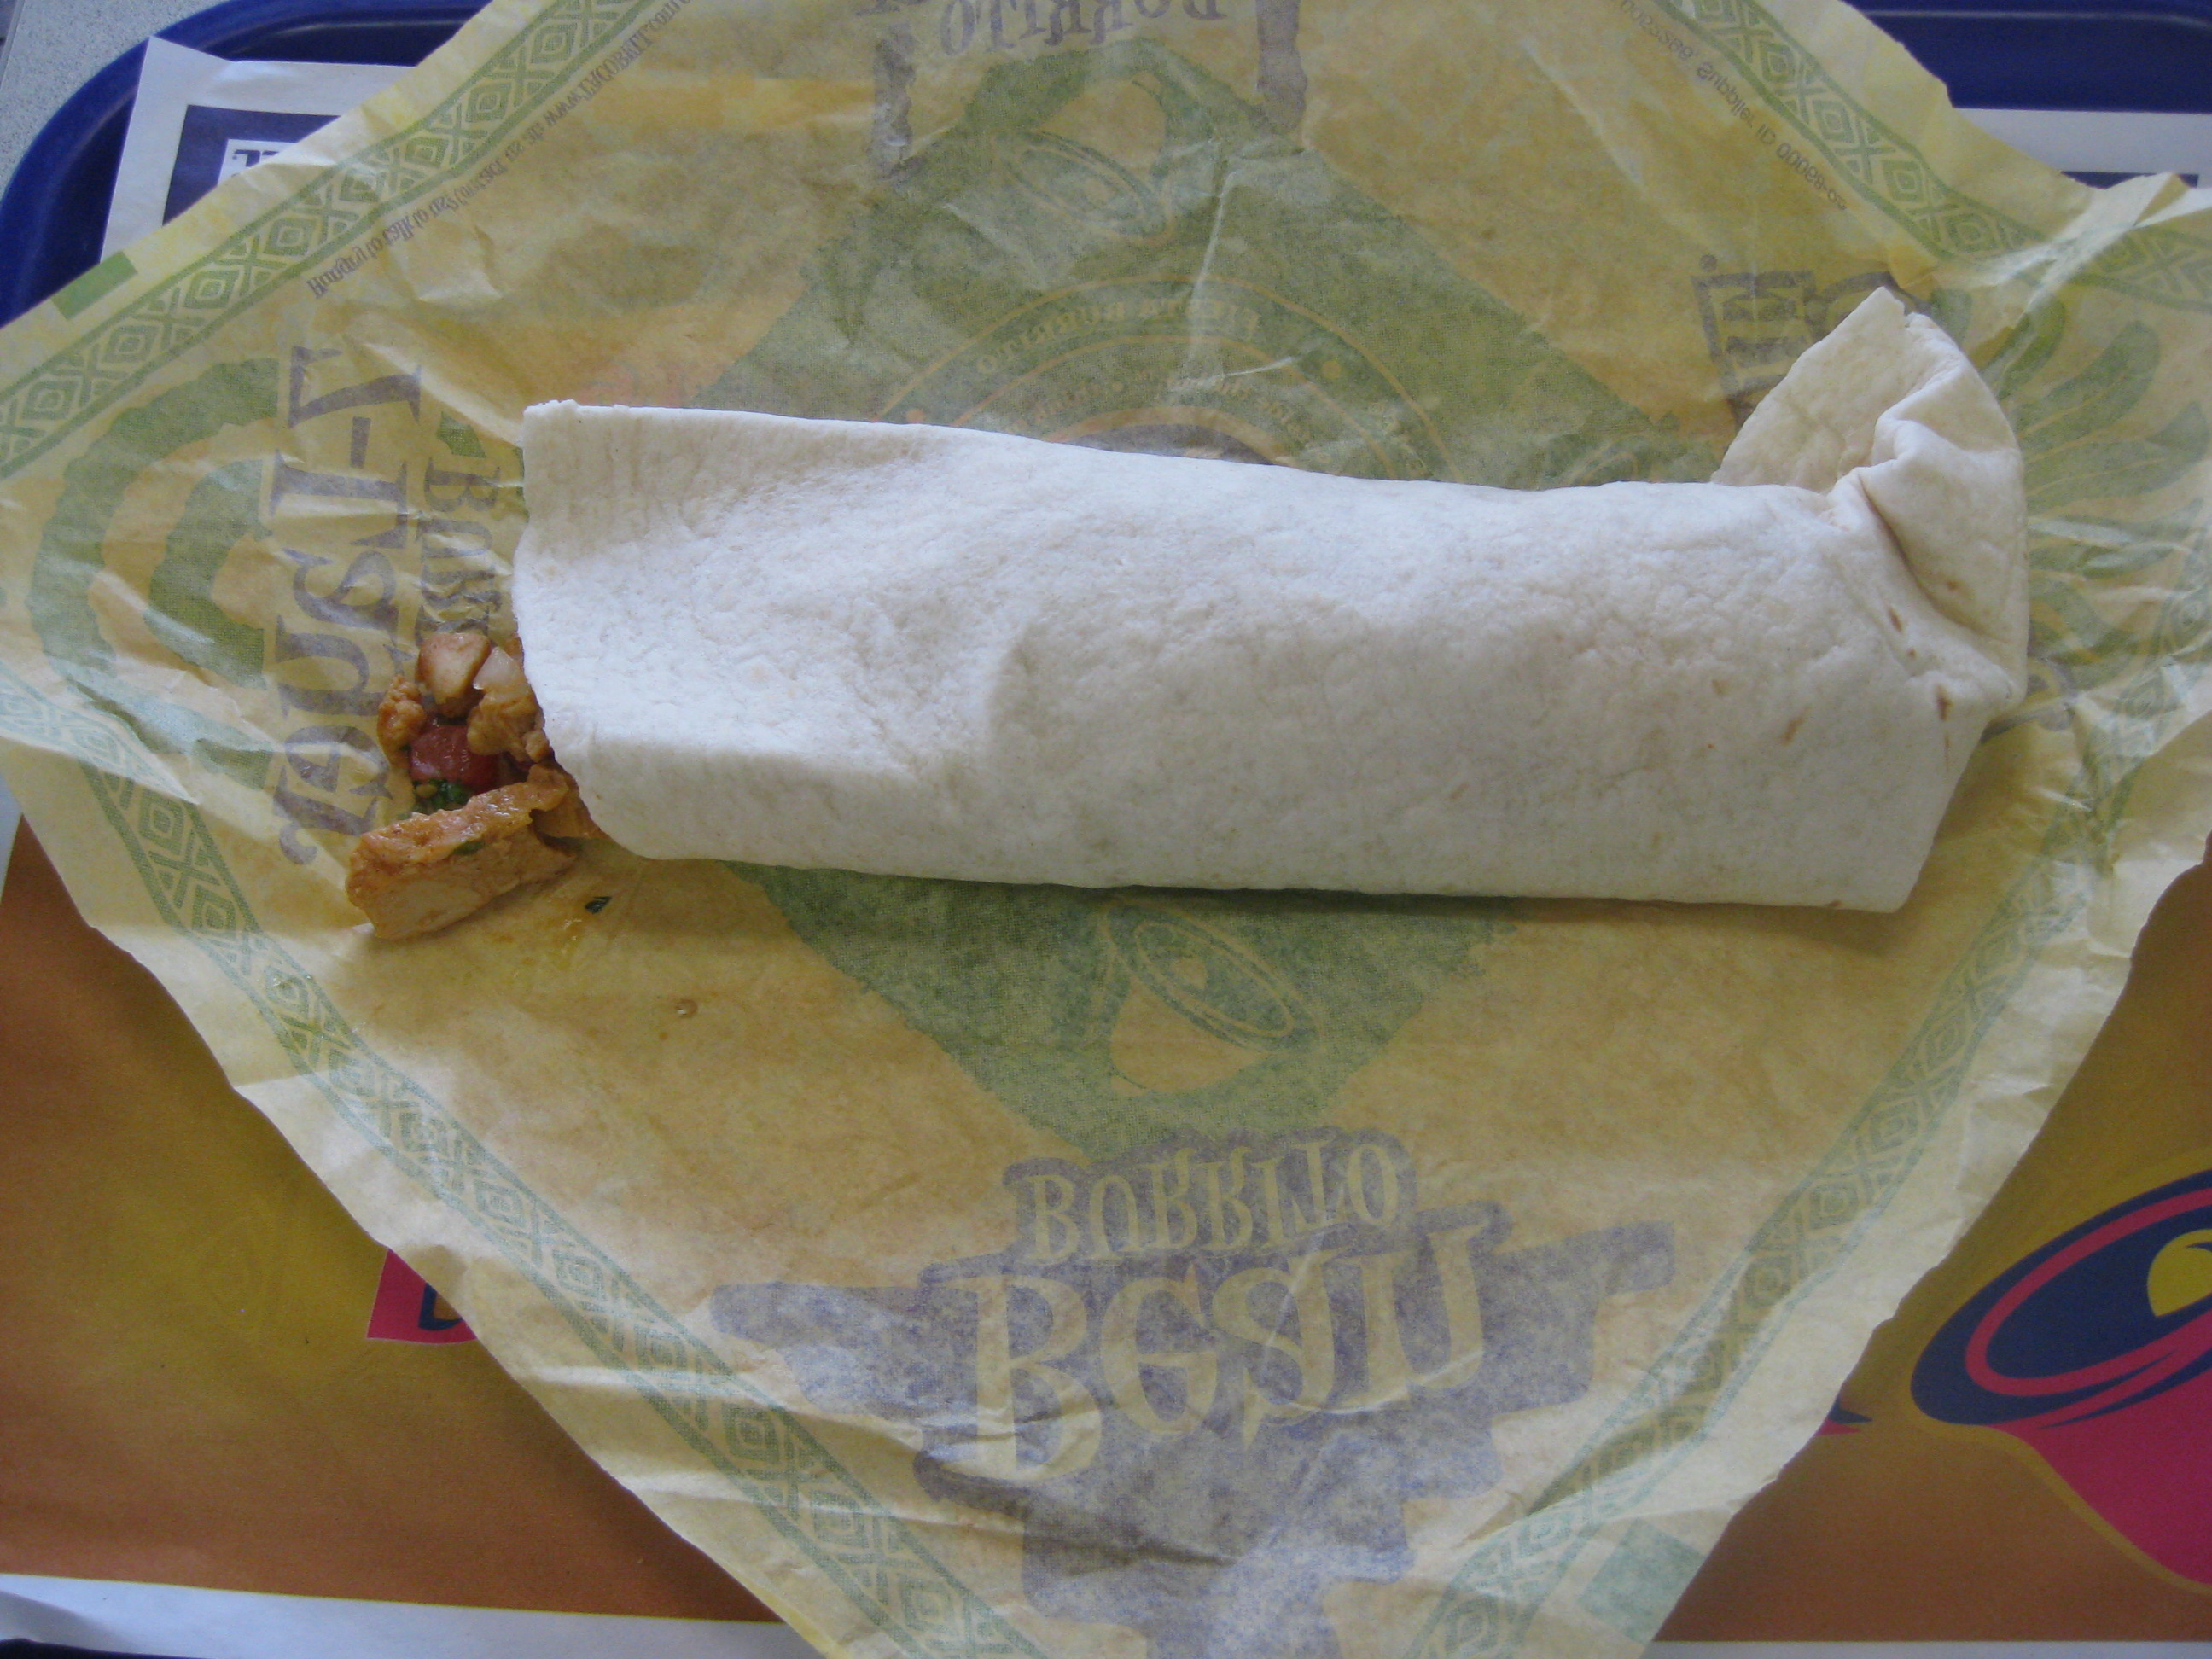burrito: (400, 195, 2097, 1049)
